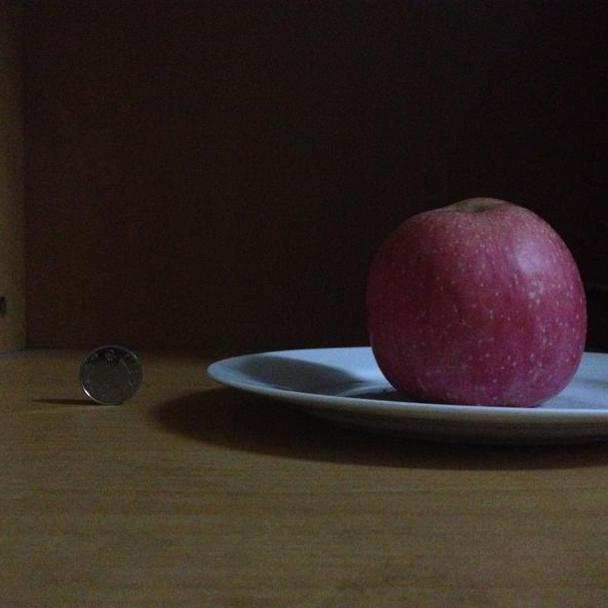apple: (363, 196, 589, 405)
